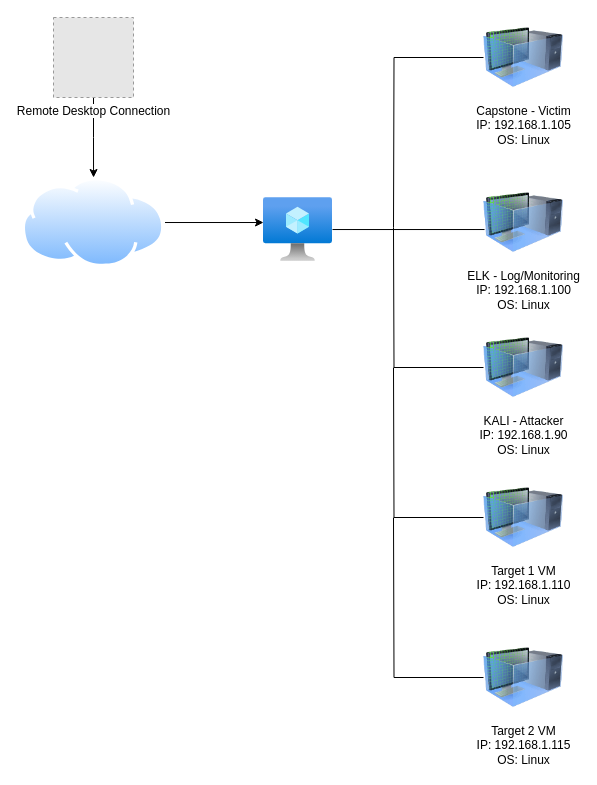
The diagram is 597 pixels wide and 785 high, and some of its shapes have lost their labels. Grey dashed boxes stand in for pictures. Here are the shapes that lost their labels. From the top down, the box of each, then its label:
(22, 177, 164, 267): Internet
(263, 197, 332, 261): Hyper-V Manager IP: 192.168.1.1 OS: Windows
